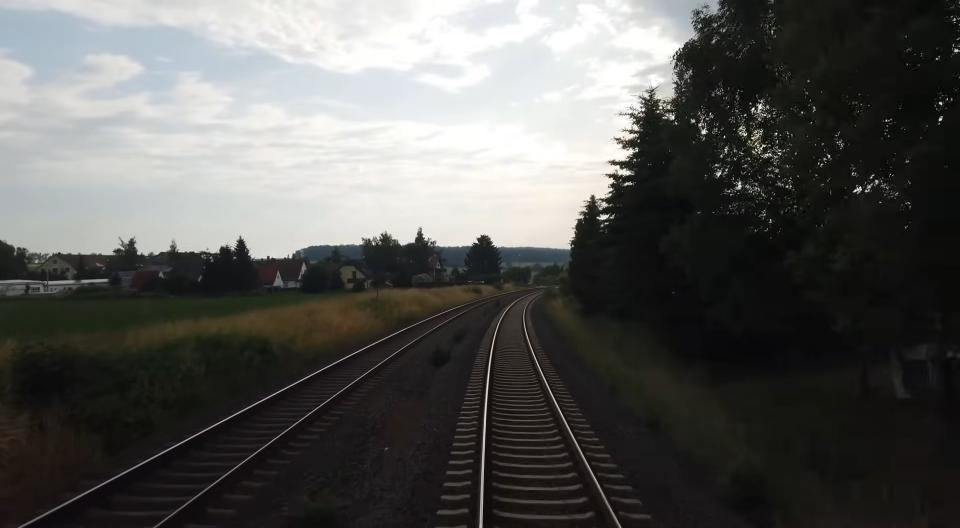Plant: (430, 348, 450, 367), (454, 328, 468, 343)
